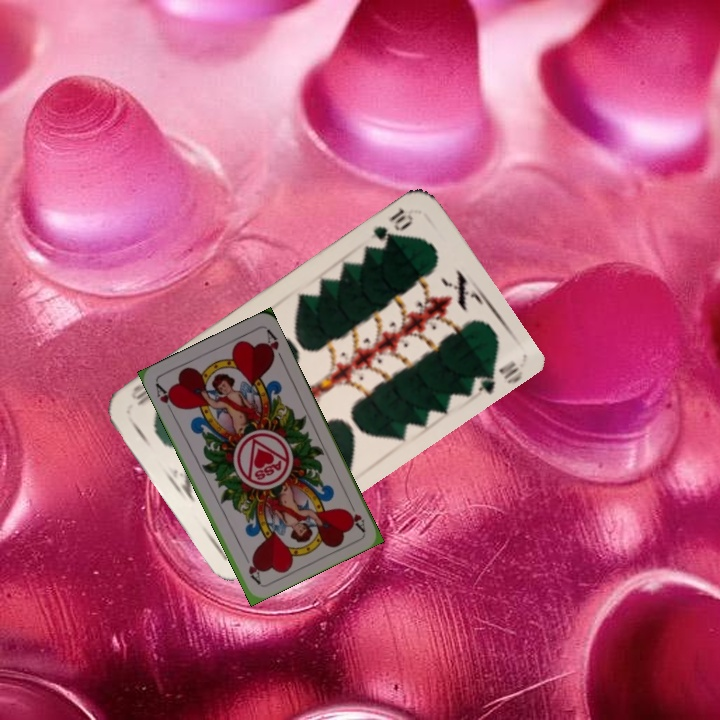G10: (369, 202, 416, 246)
HA: (151, 379, 179, 417), (342, 495, 368, 534)
